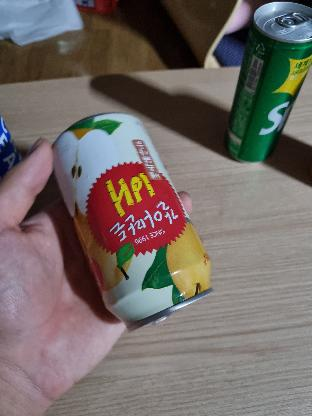Can: (37, 116, 213, 335), (222, 0, 312, 166)
